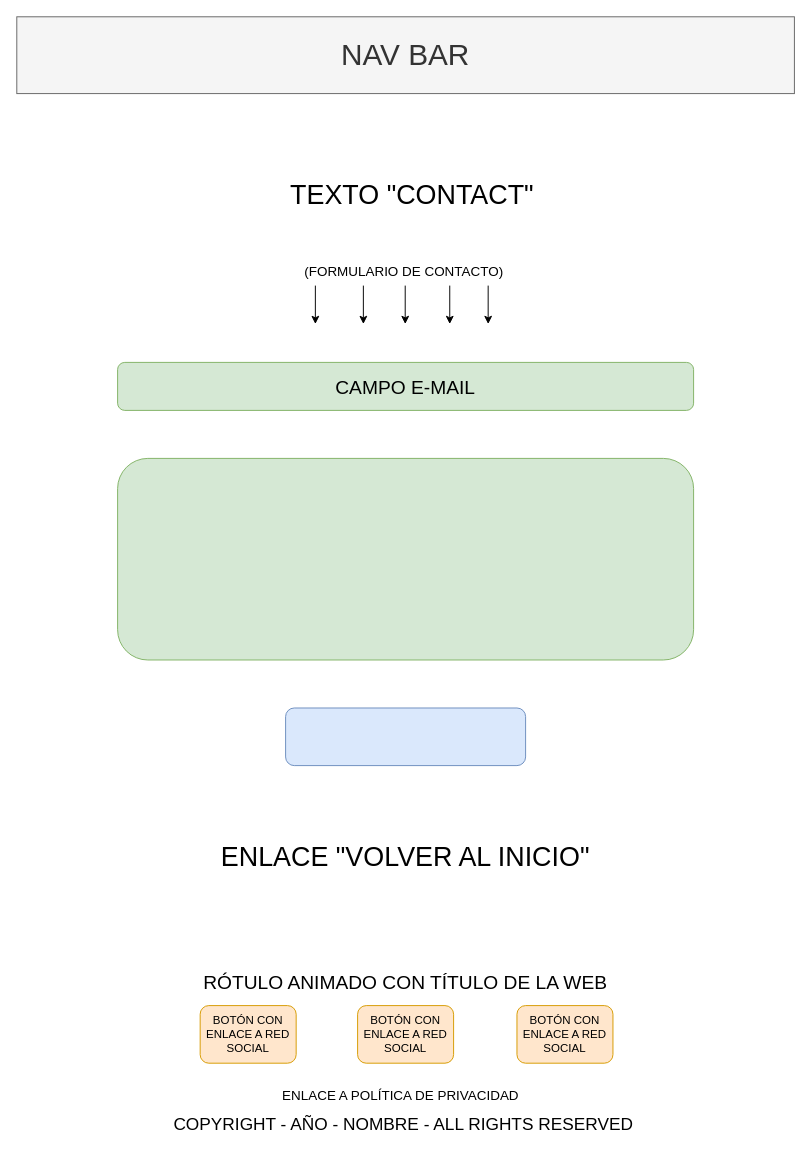
This 811x1156 diagram has some shape labels left out. Each missing label, with the box of its shape:
BOTÓN SUBMIT: (285, 707, 526, 766)
CAMPO MENSAJE A ENVIAR: (117, 457, 694, 660)
